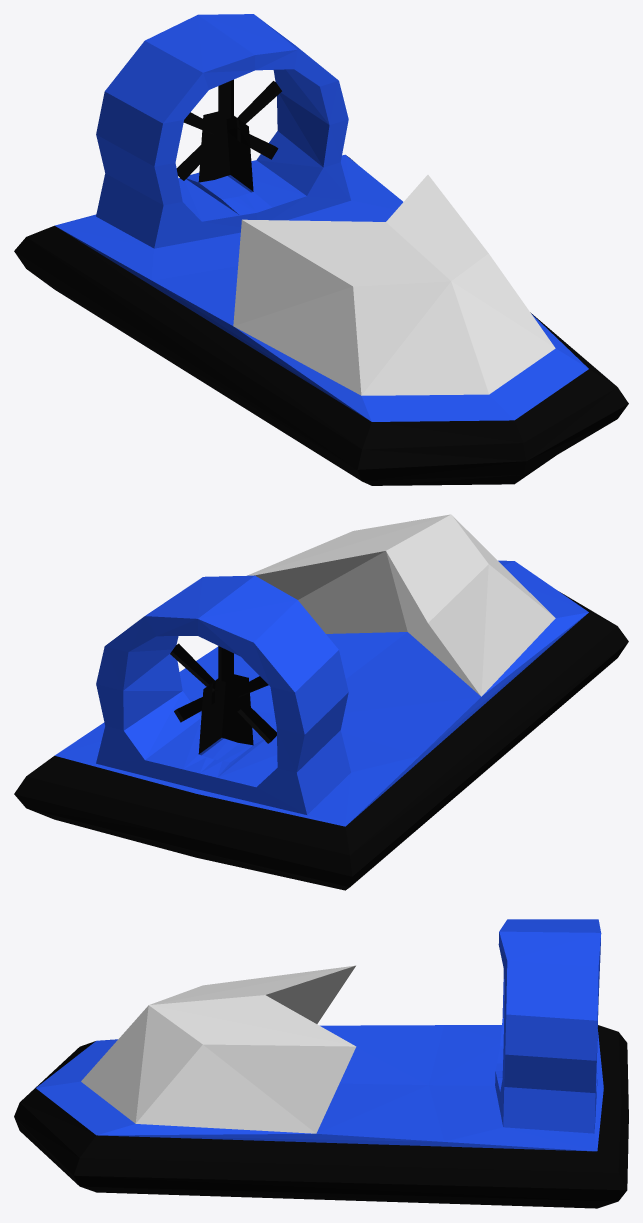
The model's file is Hovercraft.fbx.
The picture shows the model from 3 angles, top to bottom: view 1: azimuth 30°, elevation 25°; view 2: azimuth 150°, elevation 25°; view 3: azimuth 270°, elevation 25°; orthographic projection. The views are drawn at different scales.
Parts seen in each view (by area): view 1: Hovercraft; view 2: Hovercraft; view 3: Hovercraft.
Part boxes in pixels (bbox=[...]): Hovercraft: bbox=[14, 14, 628, 485]; Hovercraft: bbox=[14, 514, 628, 890]; Hovercraft: bbox=[14, 919, 628, 1208].
Size of the model in its own units: 394 by 266 by 694.
